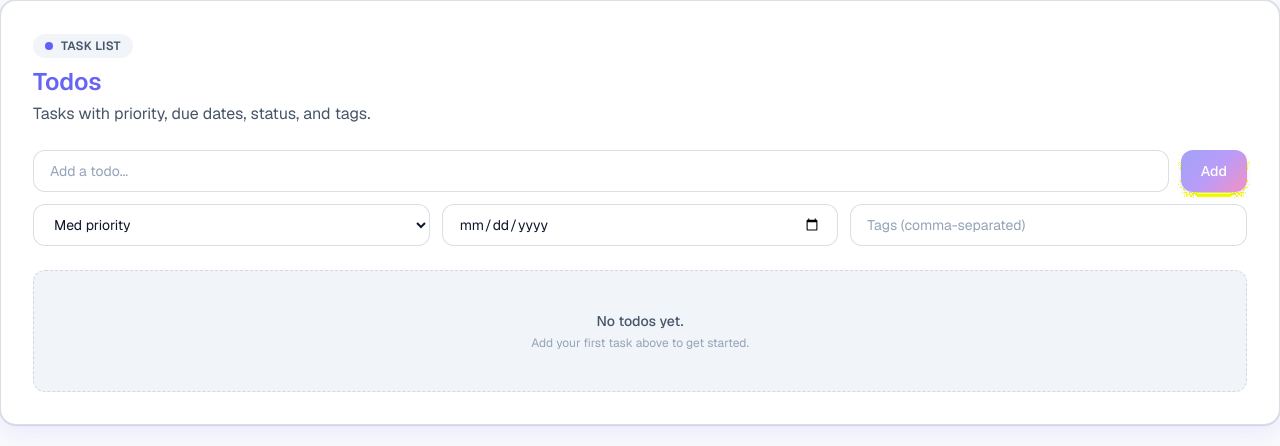
Scenario: TodosSection › creates a todo through the API
In the field named "New todo title": (601, 171) [33,150,1169,192], type "Ship feature"
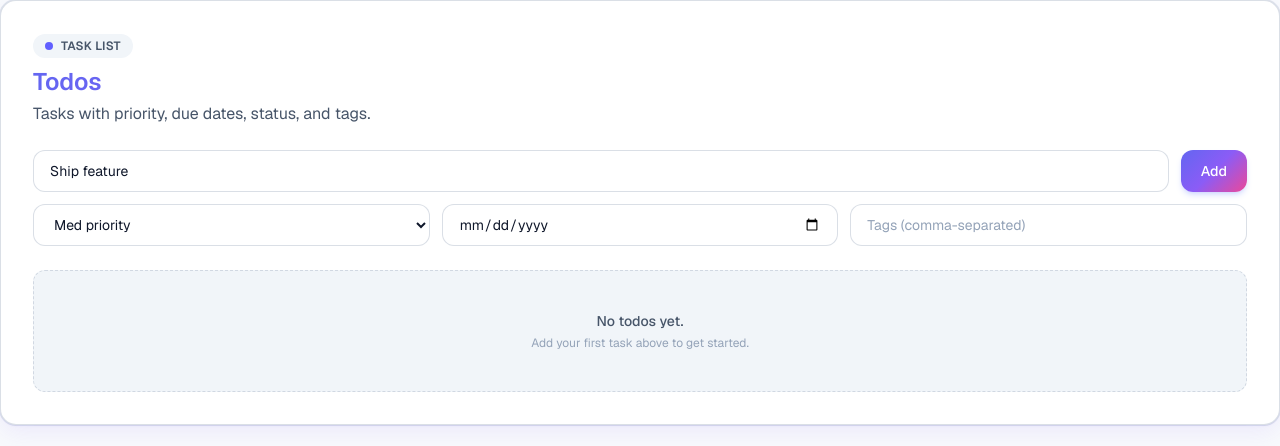
Click the button "Add": (1214, 171) [1181,150,1247,192]
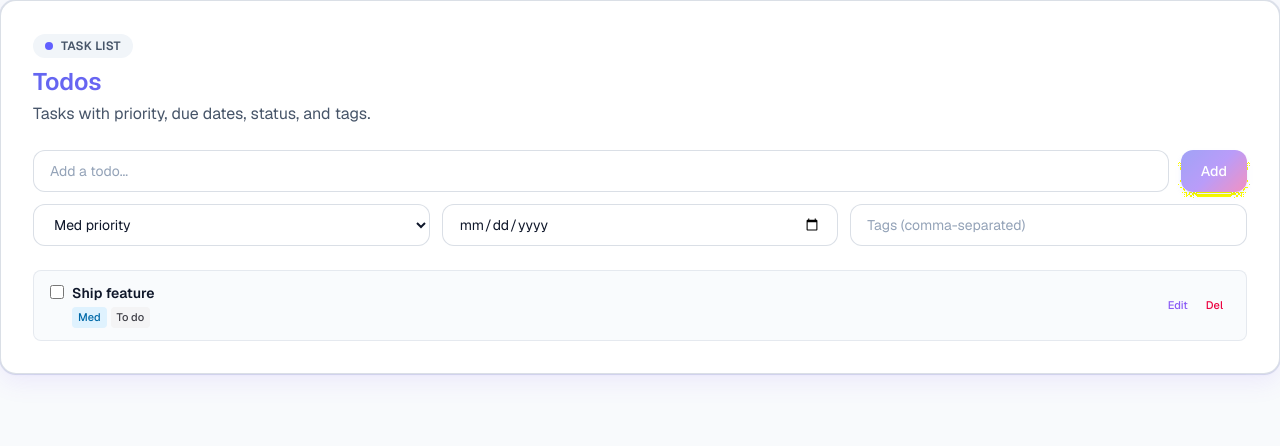
Now the text "Ship feature" is shown, box [72,284,155,302]
